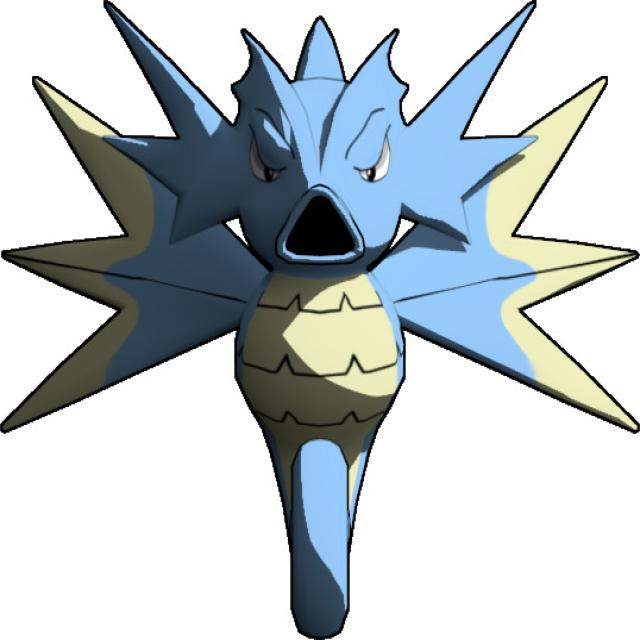Seadra: (103, 12, 542, 619)
